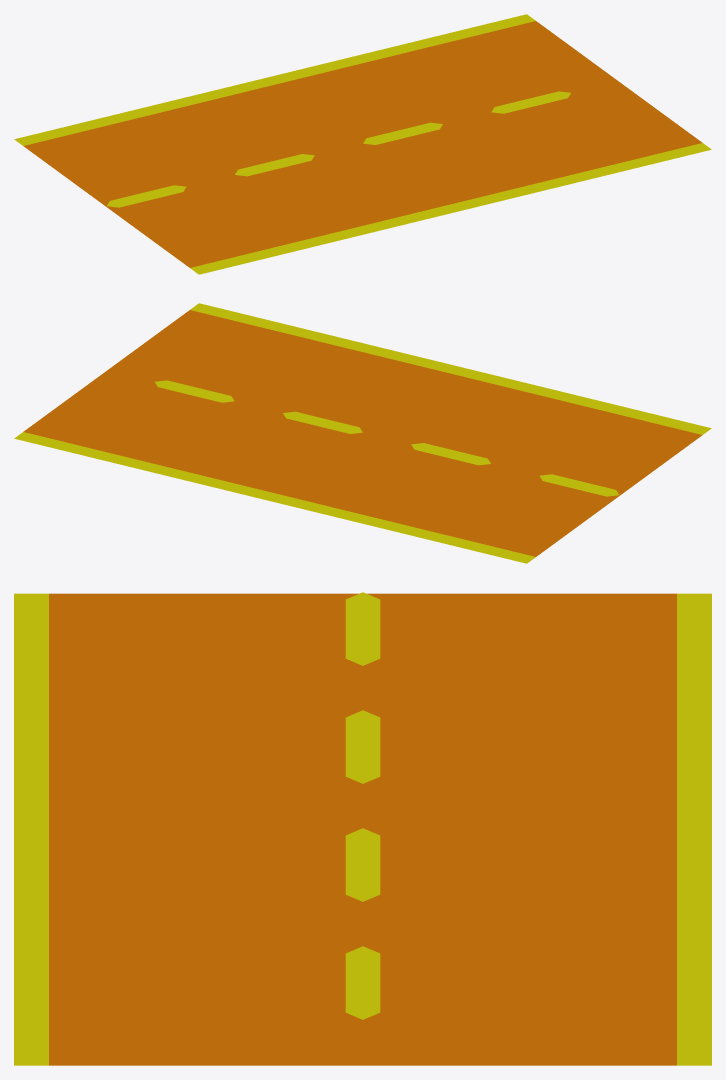
The model's file is Mesh_road_reduced.fbx.
The picture shows the model from 3 angles, top to bottom: view 1: azimuth 30°, elevation 25°; view 2: azimuth 150°, elevation 25°; view 3: azimuth 270°, elevation 25°; orthographic projection. The views are drawn at different scales.
Visible parts, largest first — view 1: Mesh_road_reduced; view 2: Mesh_road_reduced; view 3: Mesh_road_reduced.
Part boxes in pixels (x1=…): Mesh_road_reduced: x1=14, y1=14, x2=711, y2=274; Mesh_road_reduced: x1=14, y1=303, x2=711, y2=563; Mesh_road_reduced: x1=14, y1=592, x2=711, y2=1065.
Size of what is drawn, in the model's own units: 1600 by 2.5 by 1000.
